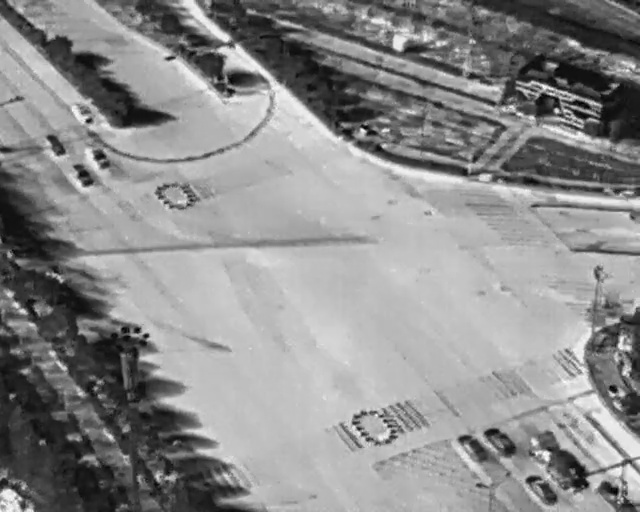Car: (479, 421, 519, 461), (453, 427, 491, 466), (522, 470, 560, 508), (41, 129, 68, 159), (70, 160, 95, 189)
